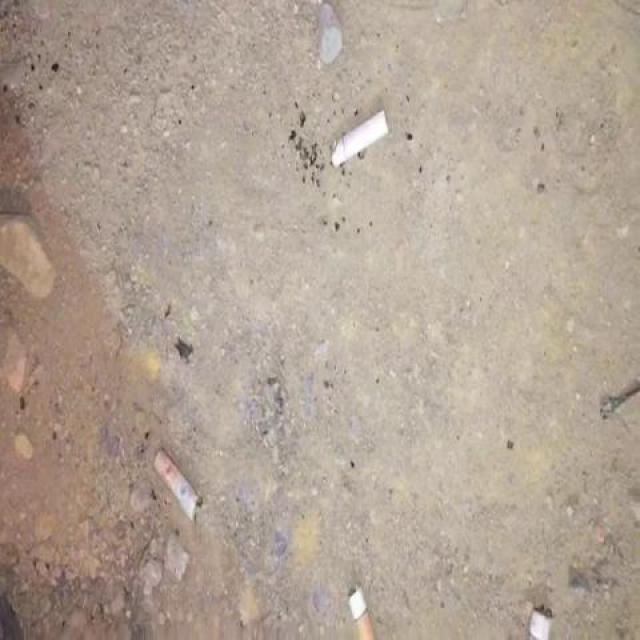non-organic waste: (147, 445, 210, 526), (325, 106, 392, 174), (342, 580, 382, 640)
